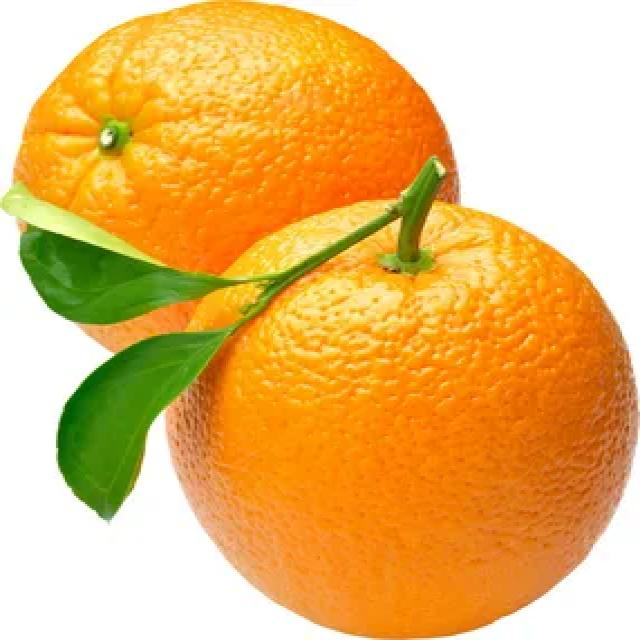orange: (158, 187, 640, 639)
